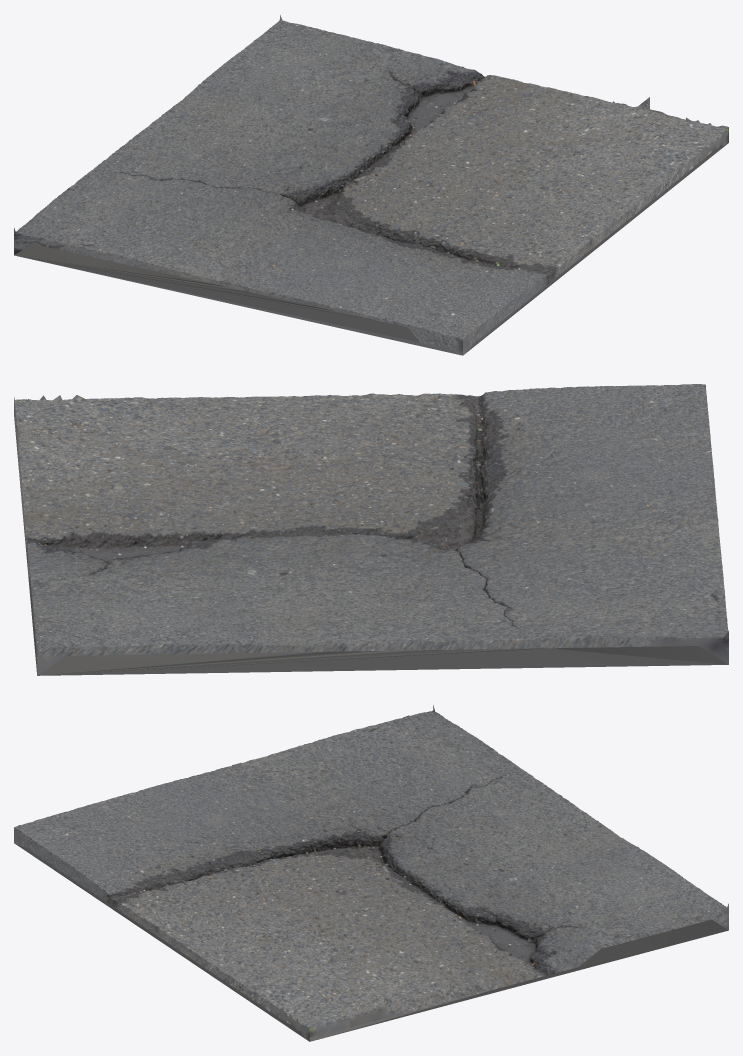
The picture shows the model from 3 angles, top to bottom: view 1: azimuth 30°, elevation 25°; view 2: azimuth 150°, elevation 25°; view 3: azimuth 270°, elevation 25°; orthographic projection. The views are drawn at different scales.
Visible parts, largest first — view 1: meshNode; view 2: meshNode; view 3: meshNode.
Boxes of the visible parts, box(x1,y1,x2,y2) form: meshNode: box(14, 15, 728, 355); meshNode: box(14, 384, 728, 675); meshNode: box(14, 705, 728, 1041).
Bounding box in the file's own units: 2.09 × 0.087 × 2.03.
1 material, 1 textured.
